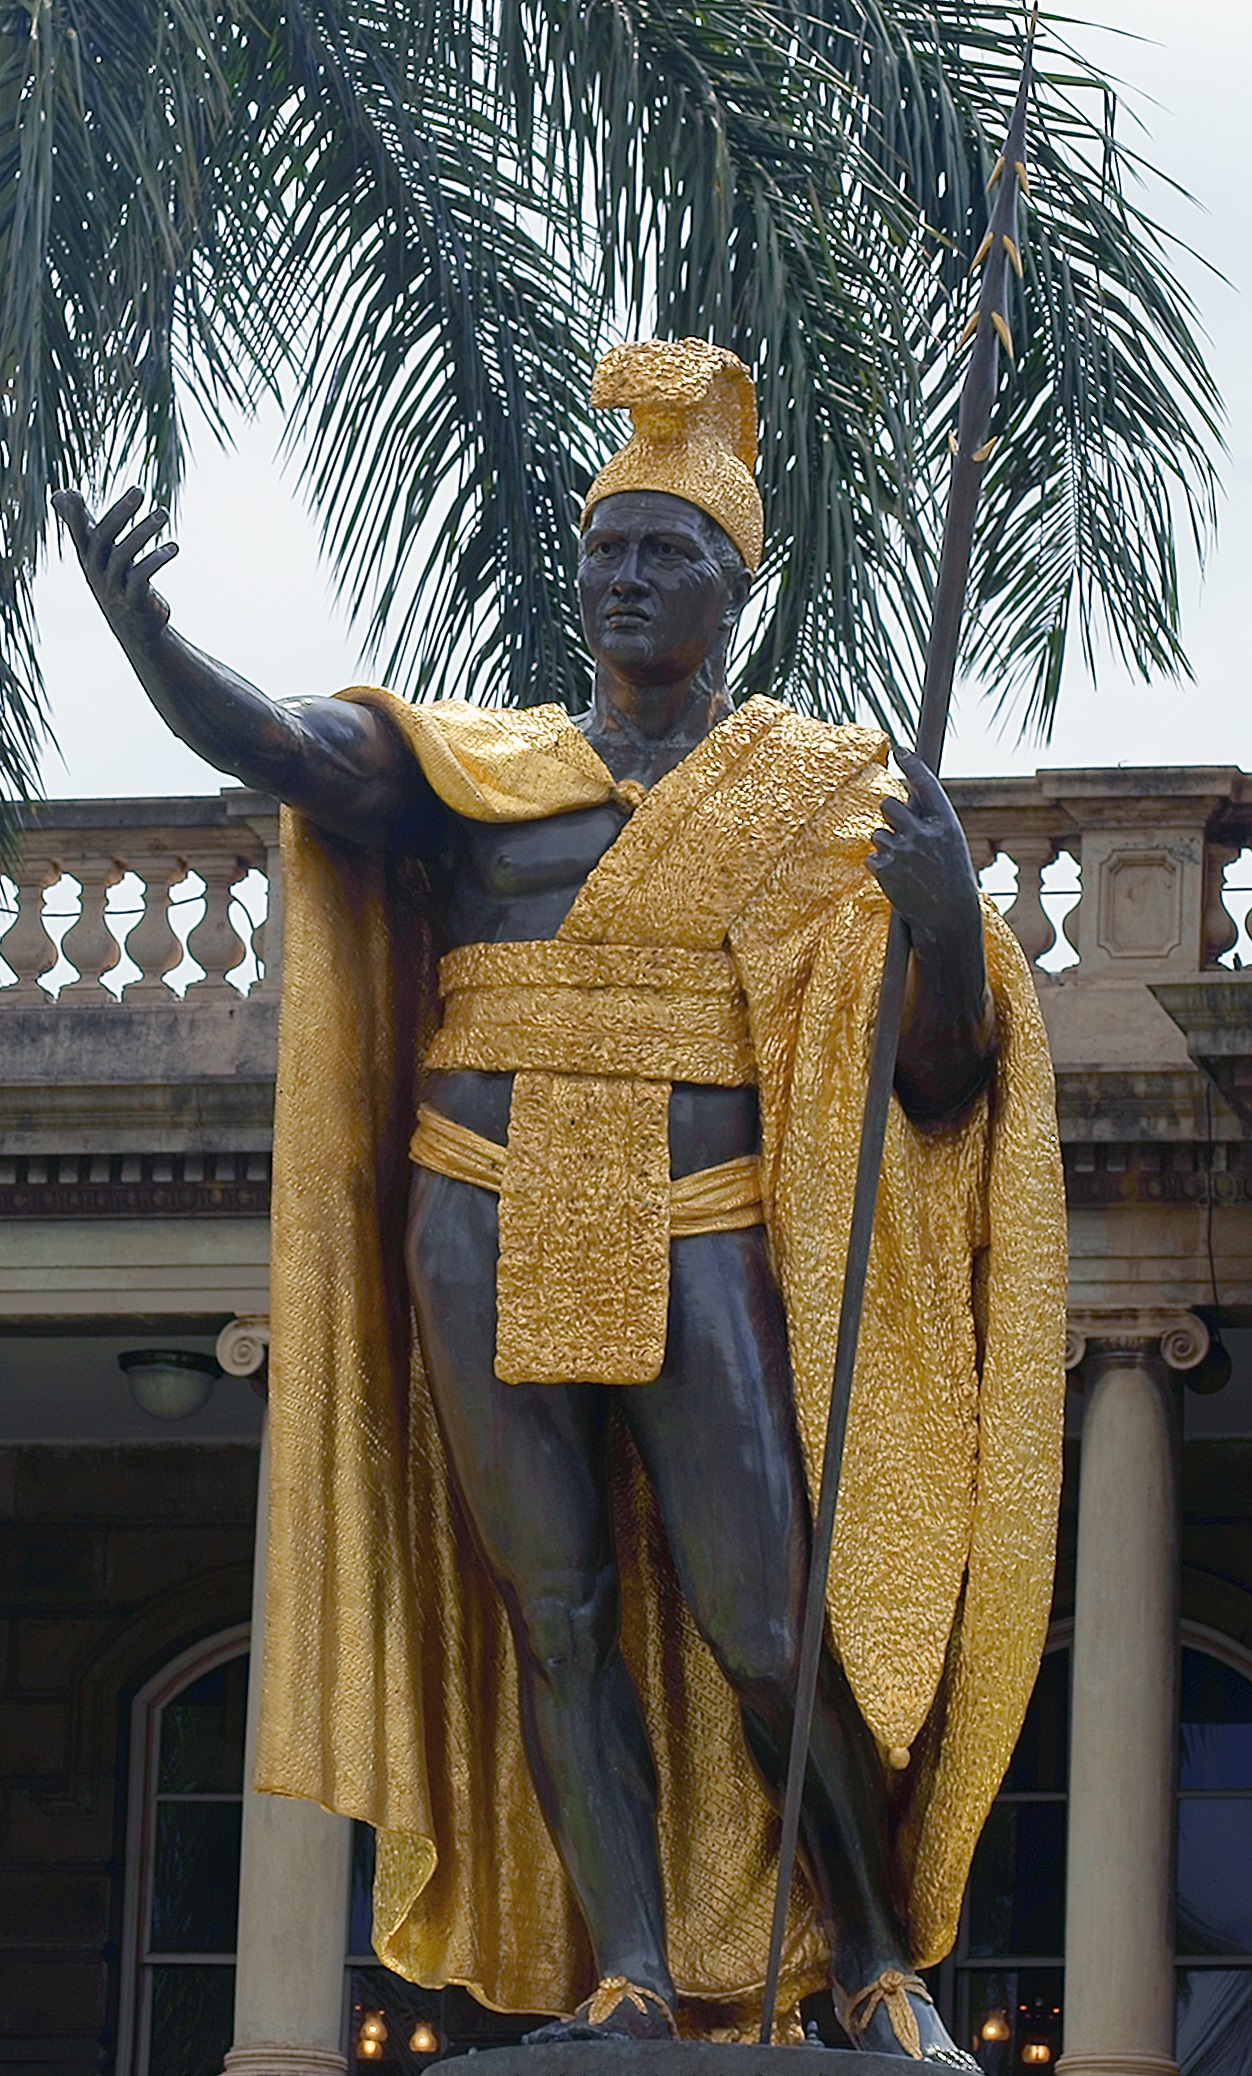person-like: (48, 313, 1081, 2076)
